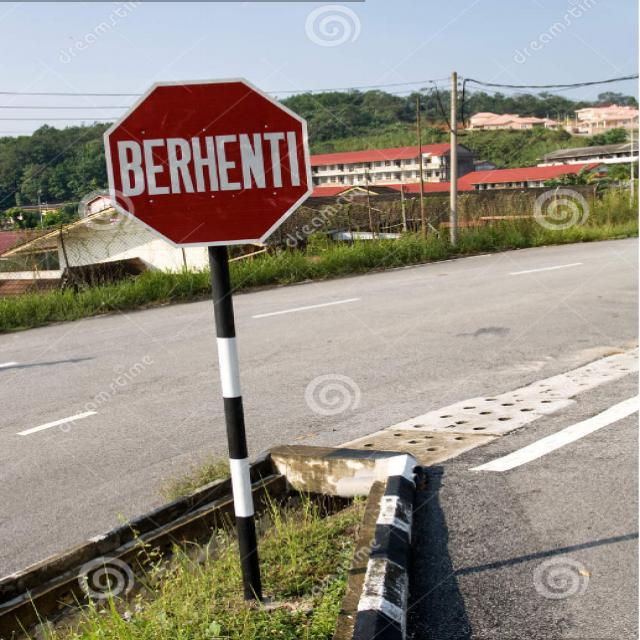stop-sign: (125, 78, 333, 254)
